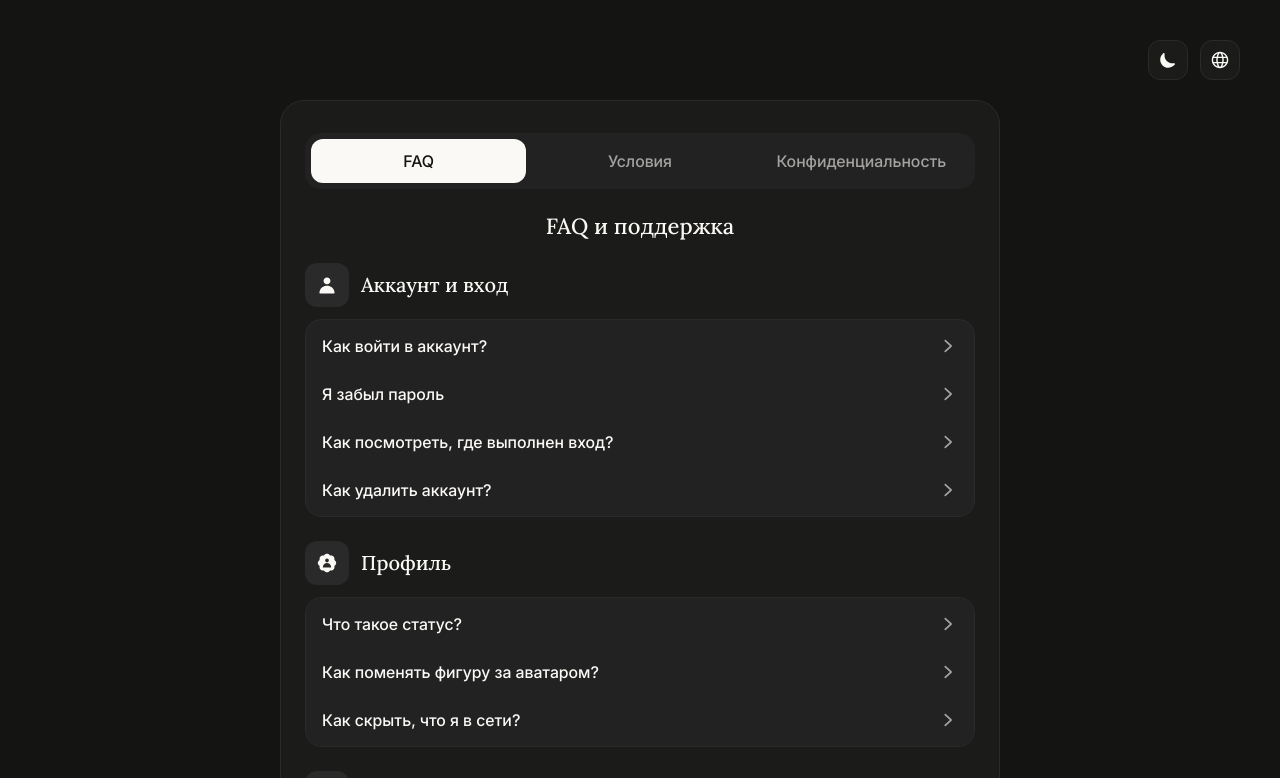
Scenario: info pages › switches between the sections with the tabs
The image size is (1280, 778).
Click the radio button labelled "Условия" at (640, 161), box x1=532 y1=139 x2=748 y2=183
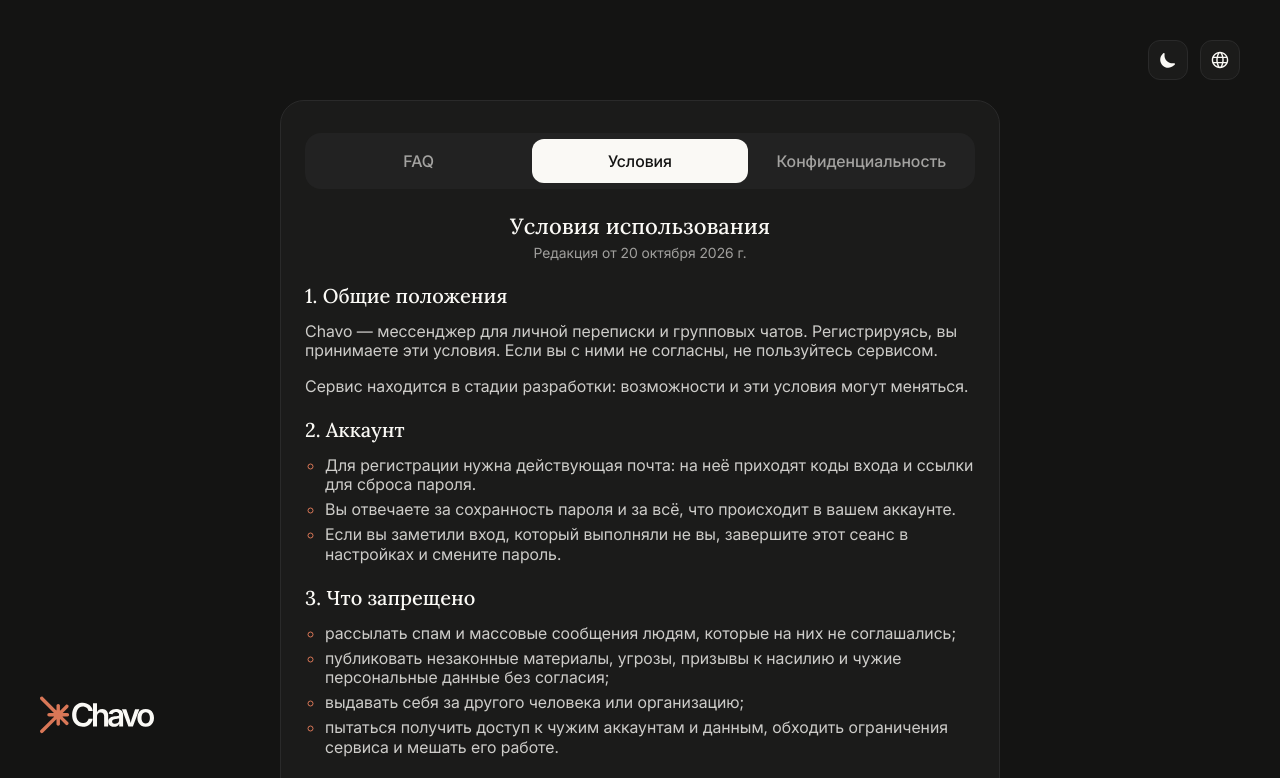
Now the heading "Условия использования" is shown, box x1=510 y1=213 x2=770 y2=239
Now the text "Редакция от 20 октября 2026 г." is shown, box x1=534 y1=245 x2=746 y2=262
Now the heading "1. Общие положения" is shown, box x1=305 y1=283 x2=508 y2=308
Click the radio button labelled "Конфиденциальность" at (861, 161), box x1=754 y1=139 x2=969 y2=183
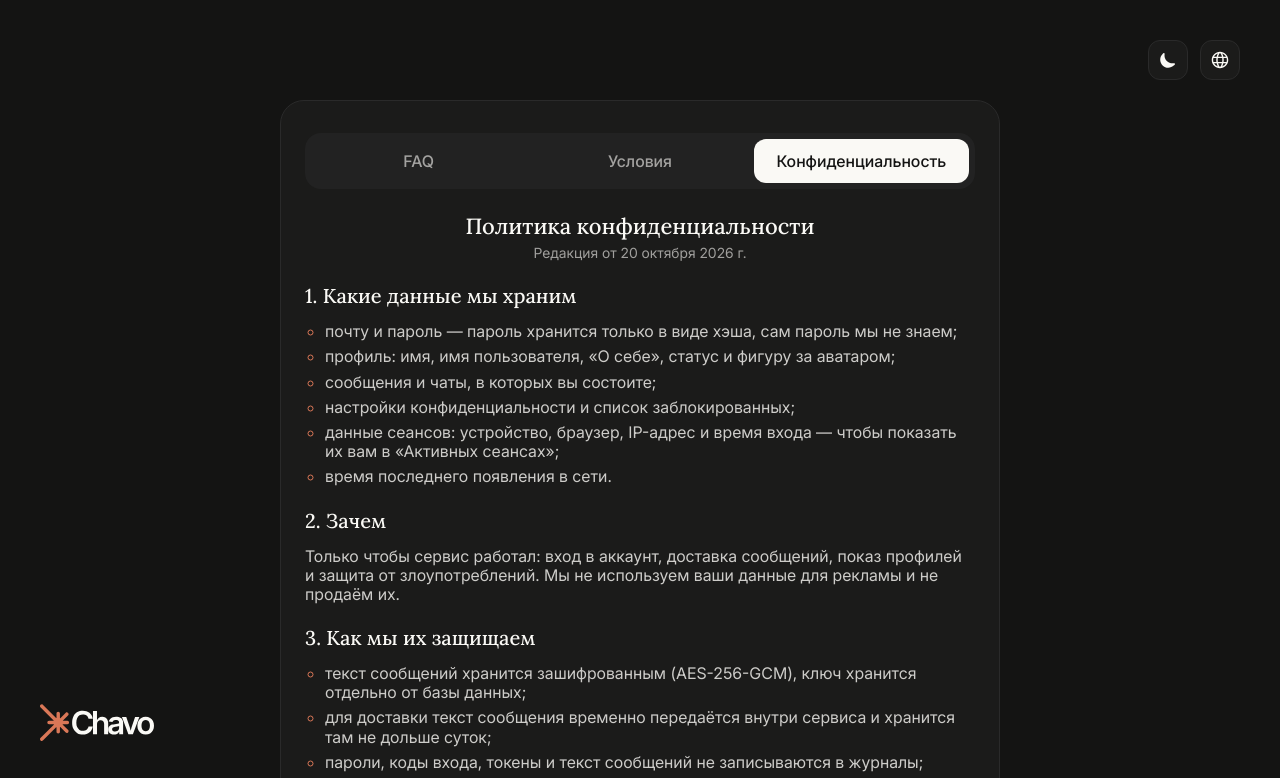
Now the heading "Политика конфиденциальности" is shown, box x1=466 y1=213 x2=814 y2=239
